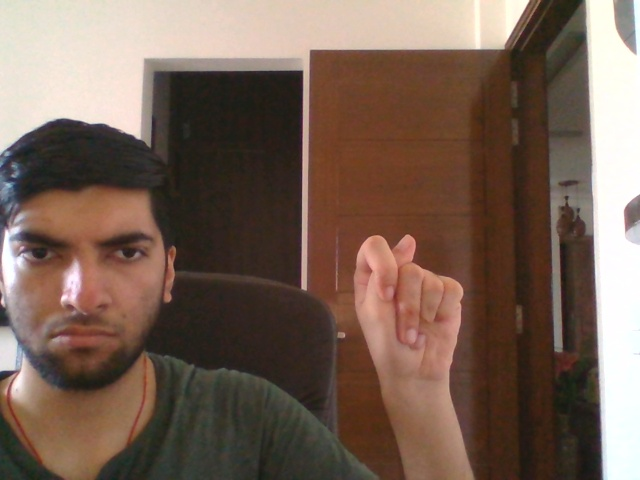LetterT: (351, 230, 467, 384)
